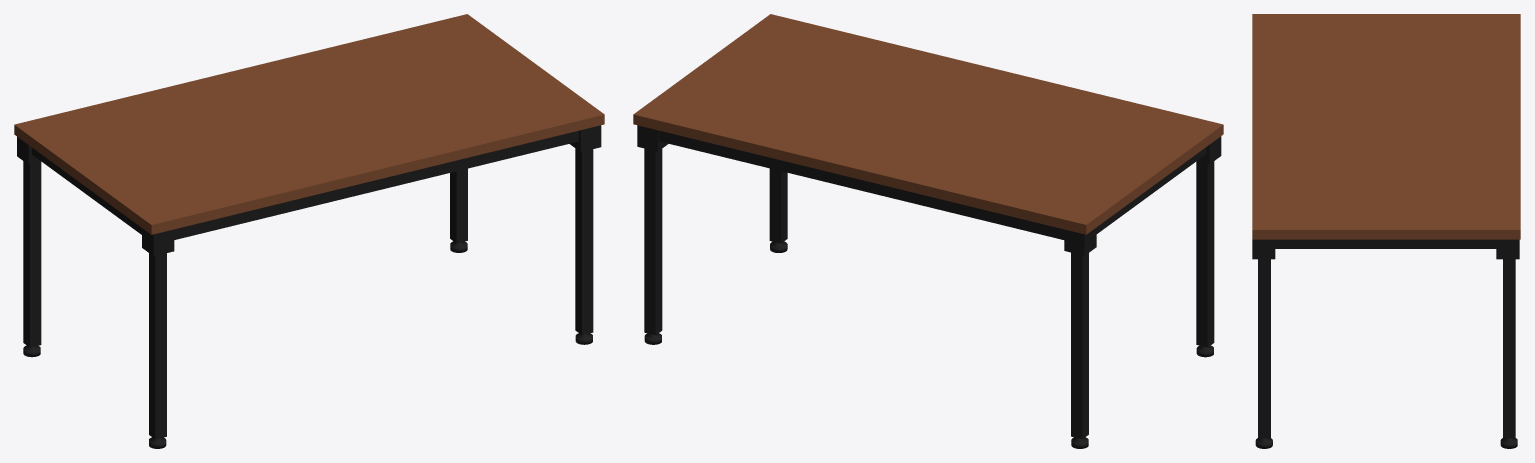
File: new_0mesa.fbx
The picture shows the model from 3 angles, left to right: view 1: azimuth 30°, elevation 25°; view 2: azimuth 150°, elevation 25°; view 3: azimuth 270°, elevation 25°; orthographic projection. The views are drawn at different scales.
Parts seen in each view (by area): view 1: Cube.289; view 2: Cube.289; view 3: Cube.289.
Boxes of the visible parts, left/top/right/bottom form: Cube.289: left=14, top=14, right=604, bottom=448; Cube.289: left=633, top=14, right=1223, bottom=448; Cube.289: left=1252, top=14, right=1520, bottom=448.
Bounding box in the file's own units: 184 × 88.28 × 96.55.
